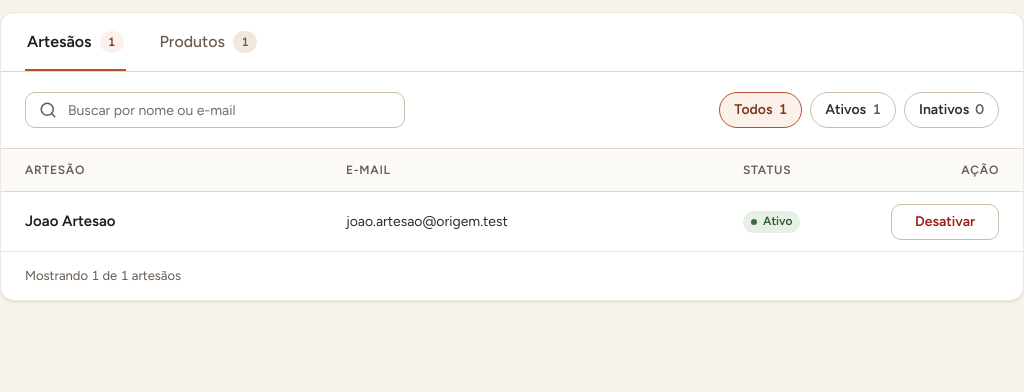
Scenario: PainelModeracao › reativa produto apos confirmar
Click the tab "Produtos 1": [208, 42] box top-left (158, 13), bottom-right (259, 71)
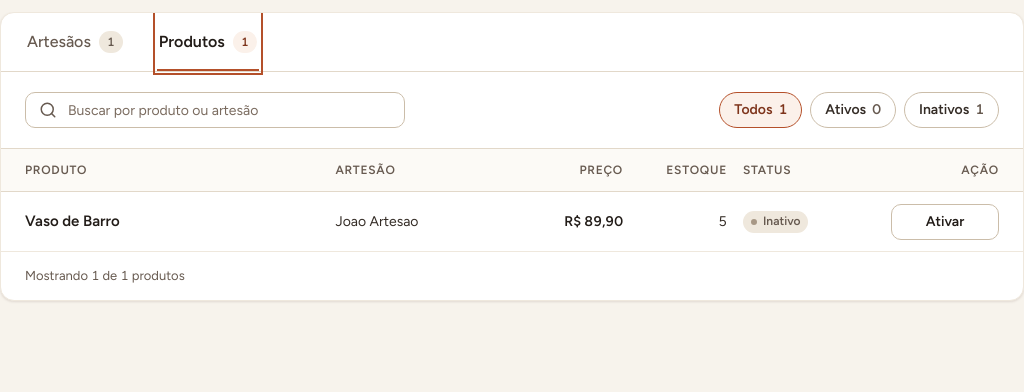
Click the button "Ativar": [945, 222] box top-left (891, 204), bottom-right (999, 240)
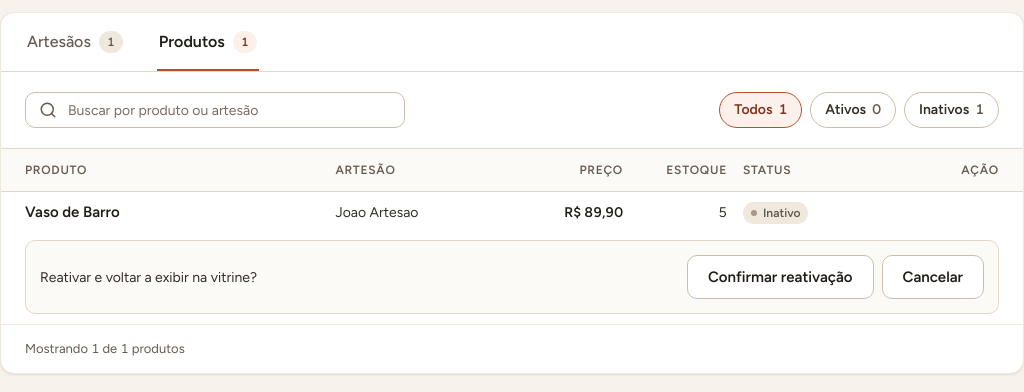
Click the button "Confirmar reativação": [780, 277] box top-left (687, 255), bottom-right (874, 299)
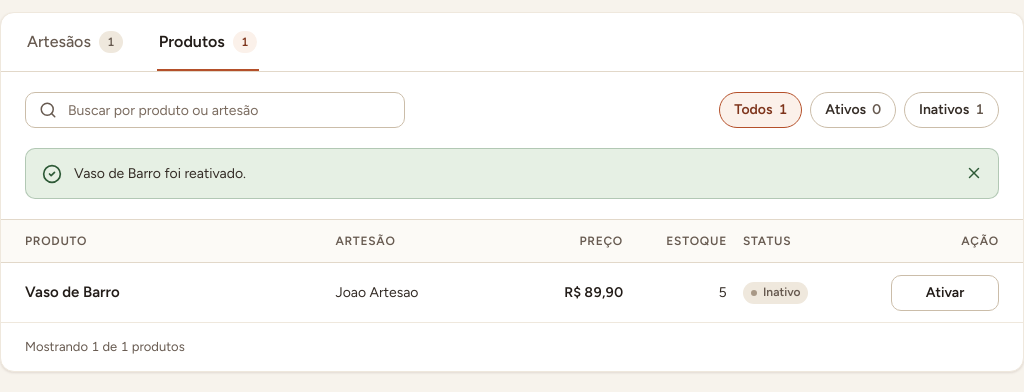
Check: the text "Vaso de Barro foi reativado." is shown, box top-left (74, 165), bottom-right (246, 182)
